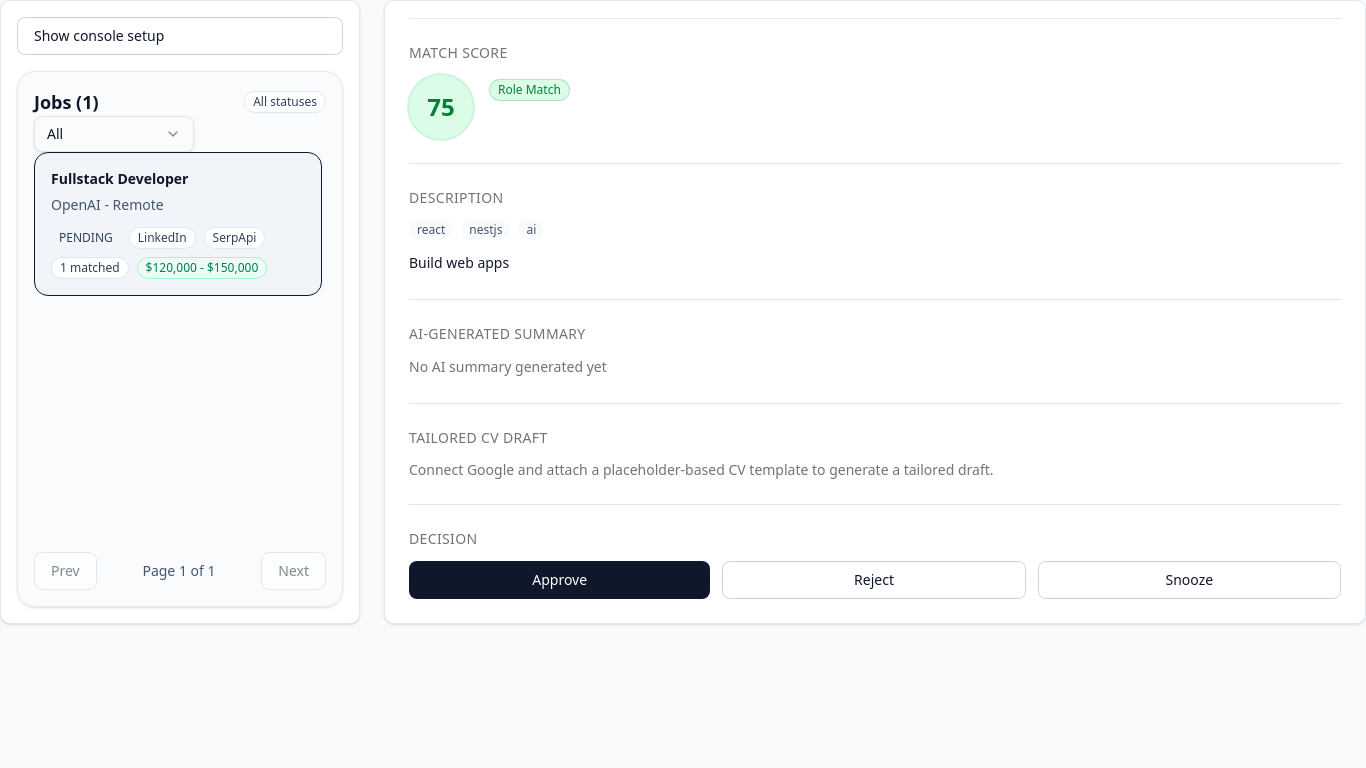
Test case: Approval Console actions › surfaces action failures
(page scrolled)
Click the button "Approve" at (560, 580), box [409,560,710,598]
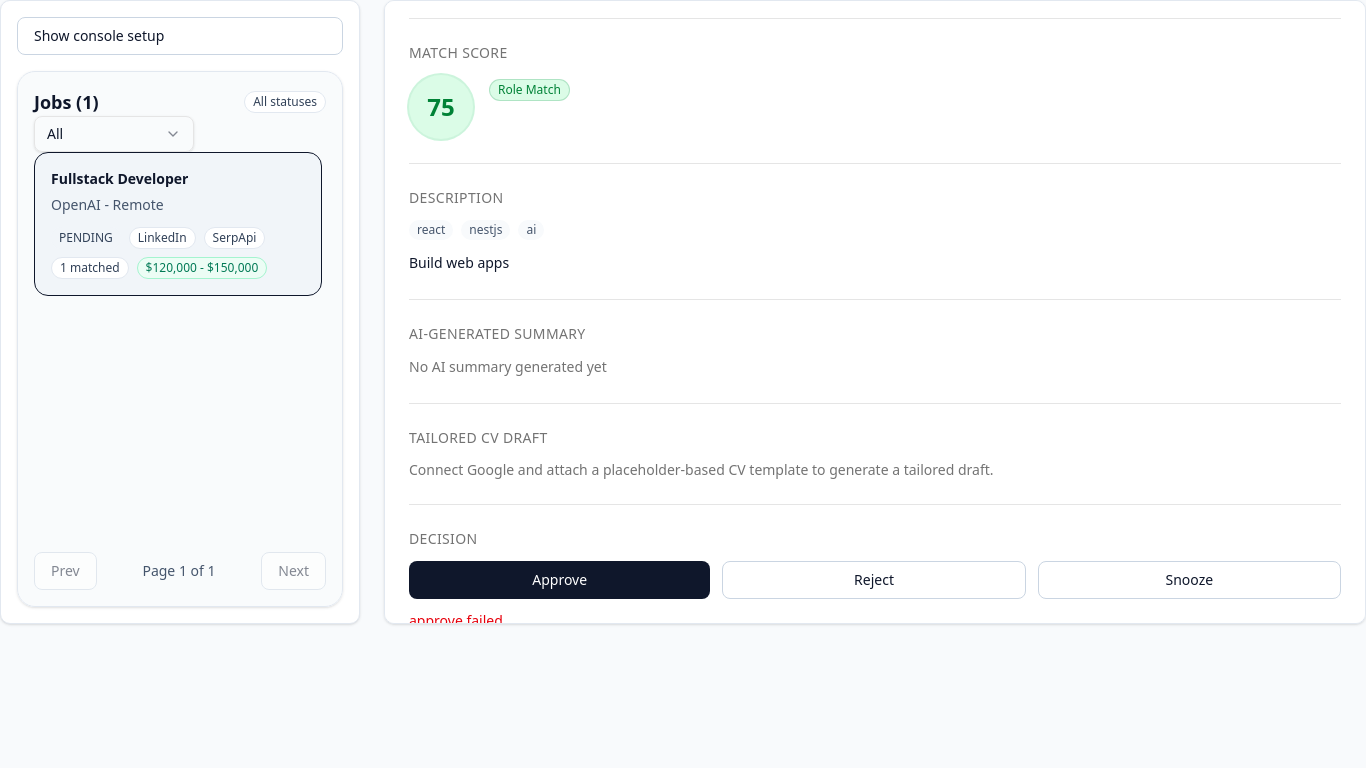
Check: the message reads "approve failed", box [409,610,503,624]
